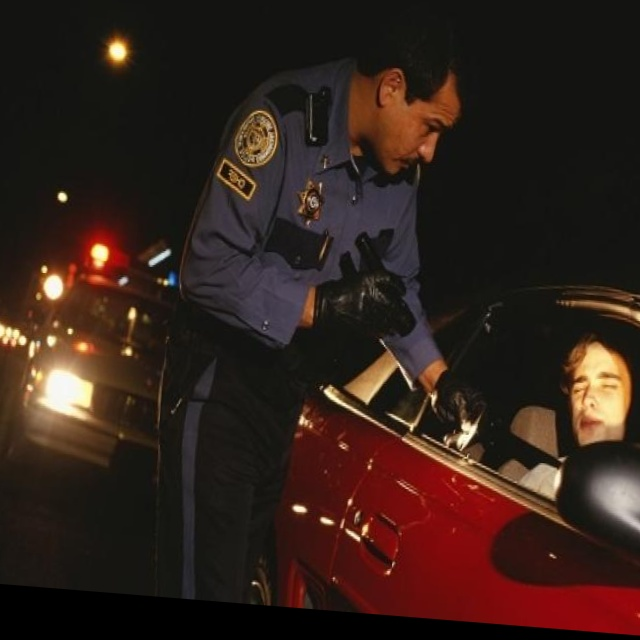Sin_Casco_Mascarrilla: (363, 0, 476, 180), (559, 329, 640, 453)
